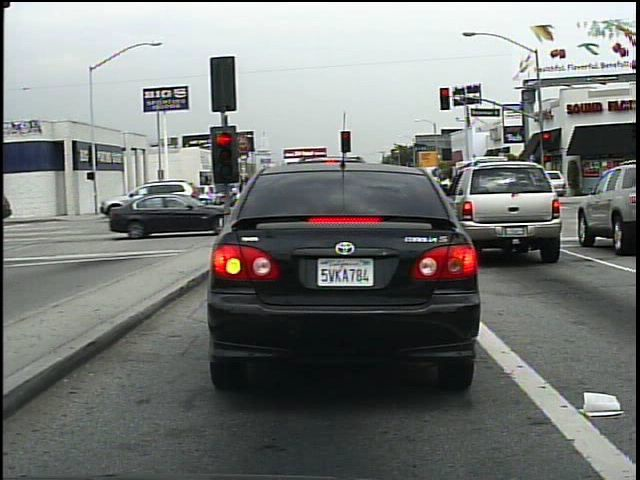person: (198, 177, 221, 216)
